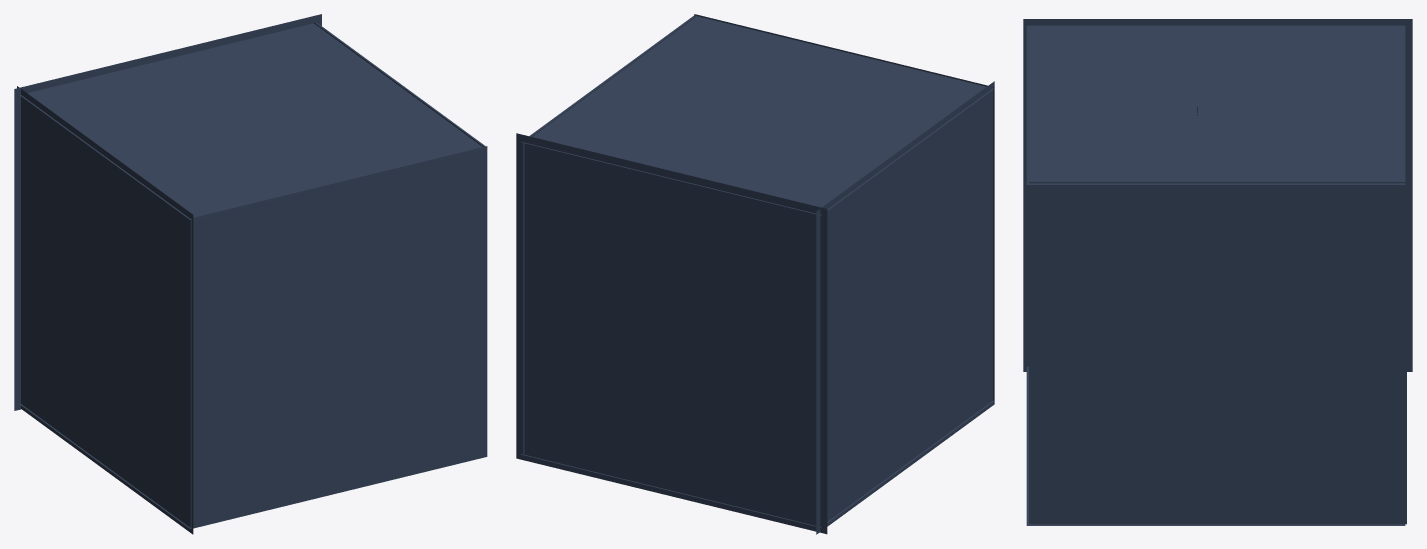
File: existence.fbx
The picture shows the model from 3 angles, left to right: view 1: azimuth 30°, elevation 25°; view 2: azimuth 150°, elevation 25°; view 3: azimuth 270°, elevation 25°; orthographic projection. The views are drawn at different scales.
Parts seen in each view (by area): view 1: 평면.001, 평면.004, 평면.003, 평면.002; view 2: 평면.002, 평면.004, 평면.003, 평면.001, 평면.005, 평면; view 3: 평면.005, 평면.003, 평면.004, 평면.
Boxes of the visible parts, left/top/right/bottom form: 평면.001: left=190, top=146, right=487, bottom=528; 평면.004: left=17, top=86, right=193, bottom=534; 평면.003: left=19, top=22, right=485, bottom=219; 평면.002: left=14, top=14, right=321, bottom=410; 평면.002: left=516, top=133, right=827, bottom=534; 평면.004: left=816, top=81, right=994, bottom=534; 평면.003: left=521, top=15, right=993, bottom=215; 평면.001: left=694, top=14, right=994, bottom=400; 평면.005: left=523, top=16, right=695, bottom=455; 평면: left=521, top=400, right=993, bottom=527; 평면.005: left=1029, top=182, right=1406, bottom=524; 평면.003: left=1026, top=25, right=1405, bottom=184; 평면.004: left=1023, top=19, right=1412, bottom=371; 평면: left=1026, top=366, right=1405, bottom=525.
Size of the model in its own units: 5616 by 5668 by 5581.
